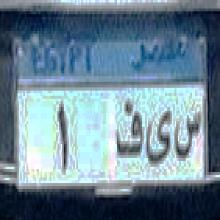1: (55, 97, 73, 172)
faa: (115, 95, 143, 165)
seen: (172, 105, 202, 170)
yaa: (144, 108, 173, 170)
